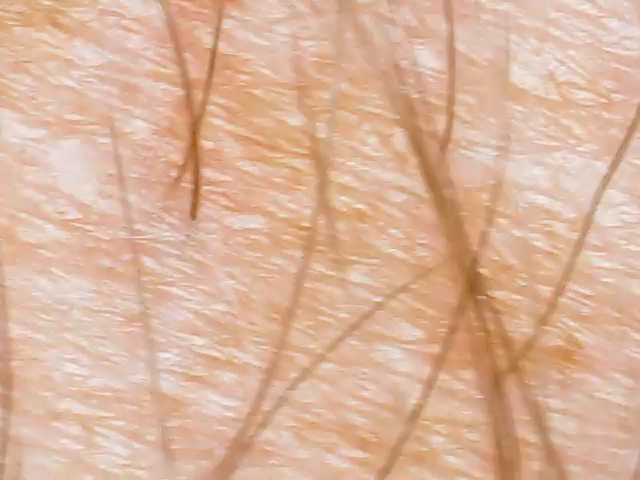folicle: (157, 176, 184, 205), (180, 204, 205, 229)
